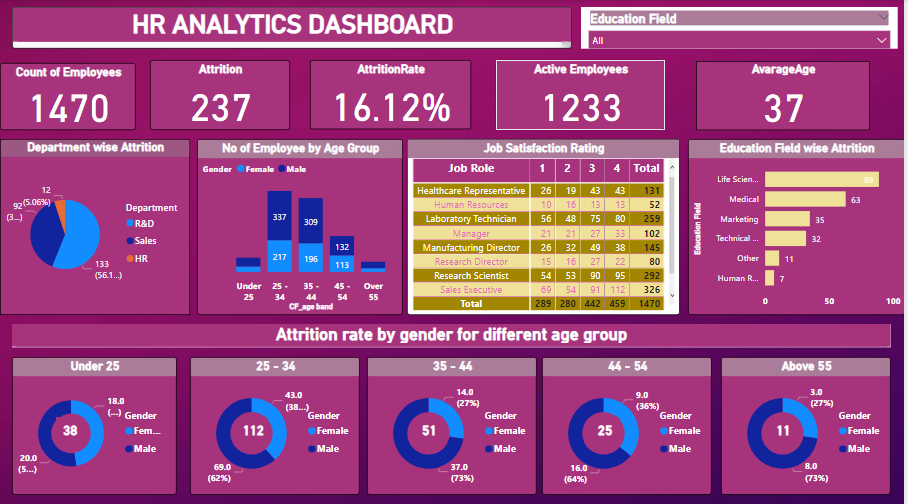

This screenshot's page, from the dashboard's own definition file:
{"tool":"powerbi","page":{"name":"HR ANALYTICDASHBOARDS ","canvas":[1280,720],"ordinal":0},"visuals":[{"type":"card","title":"Count of Employees","fields":{"Values":["Sum(HR data.Employee Count)"]},"box":[0,89.1,192.4,94.8],"z":0},{"type":"card","title":"Attrition","fields":{"Values":["Sum(HR data.AttritionCost)"]},"box":[212.2,84.9,198,99],"z":1},{"type":"card","title":"AttritionRate","fields":{"Values":["HR data.Attrition Rate"]},"box":[438.5,84.9,227.7,97.6],"z":2},{"type":"card","title":"Active Employees","fields":{"Values":["HR data.Active Employees"]},"box":[701.6,84.9,239.1,99],"z":3},{"type":"card","title":"AvarageAge","fields":{"Values":["Avg(HR data.Age)"]},"box":[984.5,86.3,246.1,97.6],"z":4},{"type":"pieChart","title":"Department wise Attrition ","fields":{"Category":["HR data.Department"],"Y":["Sum(HR data.AttritionCost)"]},"box":[0,196.6,268.8,249],"z":5},{"type":"columnChart","title":"No of Employee by Age Group","fields":{"Category":["HR data.CF_age band"],"Y":["Sum(HR data.Employee Count)"],"Series":["HR data.Gender"]},"box":[278.7,196.6,291.4,249],"z":6},{"type":"pivotTable","title":"Job Satisfaction Rating","fields":{"Rows":["HR data.Job Role"],"Columns":["HR data.Job Satisfaction"],"Values":["Sum(HR data.Employee Count)"]},"box":[575.7,196.6,386.2,249],"z":7},{"type":"barChart","title":"Education Field wise Attrition","fields":{"Category":["HR data.Education Field"],"Y":["Sum(HR data.AttritionCost)"]},"box":[973.2,196.6,307,249],"z":8},{"type":"donutChart","title":"Under 25","fields":{"Y":["Sum(HR data.AttritionCost)"],"Series":["HR data.CF_age band"],"Category":["HR data.Gender"]},"box":[17,505,233.4,195.2],"z":9},{"type":"textbox","title":"Attrition rate by gender for different age group","box":[17,458.3,1243.4,32.5],"z":10},{"type":"donutChart","title":"44 - 54","fields":{"Y":["Sum(HR data.AttritionCost)"],"Series":["HR data.CF_age band"],"Category":["HR data.Gender"]},"box":[766.7,505,240.5,195.2],"z":11},{"type":"donutChart","title":"35 - 44","fields":{"Y":["Sum(HR data.AttritionCost)"],"Series":["HR data.CF_age band"],"Category":["HR data.Gender"]},"box":[519.1,505,240.5,195.2],"z":12},{"type":"donutChart","title":"25 - 34","fields":{"Y":["Sum(HR data.AttritionCost)"],"Series":["HR data.CF_age band"],"Category":["HR data.Gender"]},"box":[268.8,505,240.5,195.2],"z":13},{"type":"donutChart","title":"Above 55","fields":{"Y":["Sum(HR data.AttritionCost)"],"Series":["HR data.CF_age band"],"Category":["HR data.Gender"]},"box":[1019.9,505,240.5,195.2],"z":14},{"type":"card","fields":{"Values":["Sum(HR data.AttritionCost)"]},"box":[79.2,589.9,39.6,39.6],"z":15},{"type":"card","fields":{"Values":["Sum(HR data.AttritionCost)"]},"box":[1087.8,589.9,39.6,39.6],"z":16},{"type":"card","fields":{"Values":["Sum(HR data.AttritionCost)"]},"box":[836,589.9,39.6,39.6],"z":17},{"type":"card","fields":{"Values":["Sum(HR data.AttritionCost)"]},"box":[587,589.9,39.6,39.6],"z":18},{"type":"card","fields":{"Values":["Sum(HR data.AttritionCost)"]},"box":[338.1,589.9,39.6,39.6],"z":19},{"type":"textbox","title":"HR ANALYTICS DASHBOARD","box":[17,9.9,792.1,59.4],"z":20},{"type":"slicer","fields":{"Values":["HR data.Education Field"]},"box":[821.8,9.9,448.4,59.4],"z":21}]}

Visuals, with their boxes in screenshot pixels (x1, y1, x2, y2), scaled from the page's 1280x720 canvas onto the 908x504 screenshot:
"Count of Employees" card: [x1=0, y1=62, x2=136, y2=129]
"Attrition" card: [x1=151, y1=59, x2=291, y2=129]
"AttritionRate" card: [x1=311, y1=59, x2=473, y2=128]
"Active Employees" card: [x1=498, y1=59, x2=667, y2=129]
"AvarageAge" card: [x1=698, y1=60, x2=873, y2=129]
"Department wise Attrition " pieChart: [x1=0, y1=138, x2=191, y2=312]
"No of Employee by Age Group" columnChart: [x1=198, y1=138, x2=404, y2=312]
"Job Satisfaction Rating" pivotTable: [x1=408, y1=138, x2=682, y2=312]
"Education Field wise Attrition" barChart: [x1=690, y1=138, x2=907, y2=312]
"Under 25" donutChart: [x1=12, y1=354, x2=178, y2=490]
"Attrition rate by gender for different age group" textbox: [x1=12, y1=321, x2=894, y2=344]
"44 - 54" donutChart: [x1=544, y1=354, x2=714, y2=490]
"35 - 44" donutChart: [x1=368, y1=354, x2=539, y2=490]
"25 - 34" donutChart: [x1=191, y1=354, x2=361, y2=490]
"Above 55" donutChart: [x1=723, y1=354, x2=894, y2=490]
card - Sum(HR data.AttritionCost): [x1=56, y1=413, x2=84, y2=441]
card - Sum(HR data.AttritionCost): [x1=772, y1=413, x2=800, y2=441]
card - Sum(HR data.AttritionCost): [x1=593, y1=413, x2=621, y2=441]
card - Sum(HR data.AttritionCost): [x1=416, y1=413, x2=444, y2=441]
card - Sum(HR data.AttritionCost): [x1=240, y1=413, x2=268, y2=441]
"HR ANALYTICS DASHBOARD" textbox: [x1=12, y1=7, x2=574, y2=49]
slicer - HR data.Education Field: [x1=583, y1=7, x2=901, y2=49]
